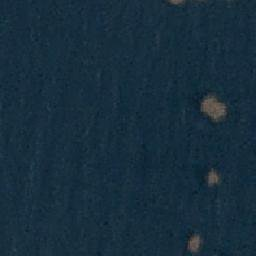debris: (198, 95, 230, 122), (185, 234, 206, 251), (203, 166, 218, 187), (165, 1, 209, 5)
